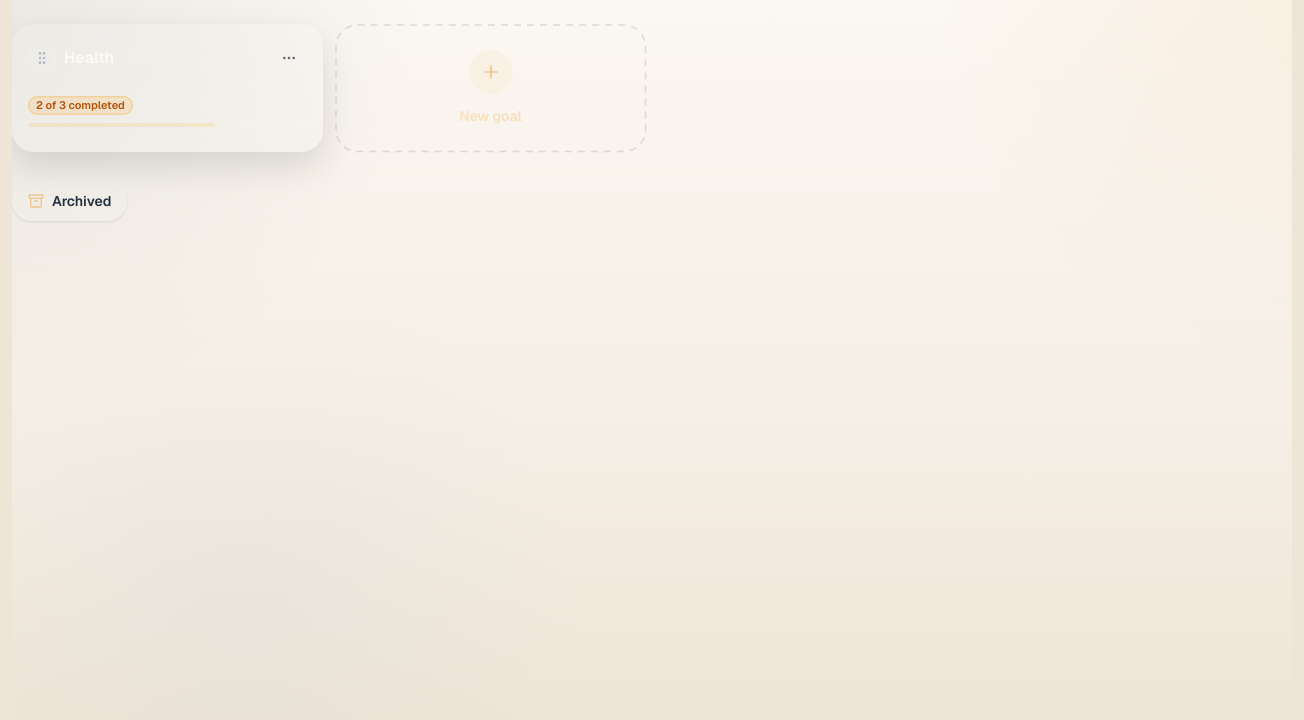
Test: GoalsSurface › renders the goal step surface without a border around the container
Click the button "Health 2 of 3 completed" at (89, 58), box [12,24,323,152]
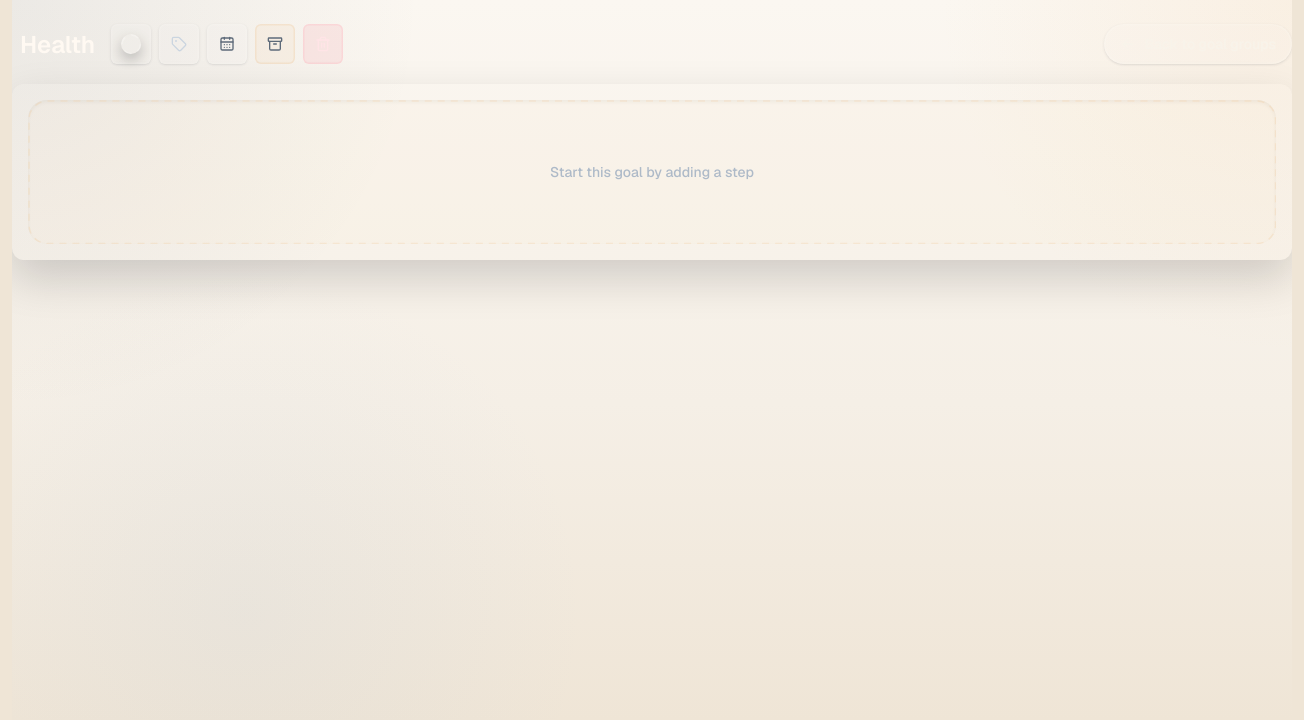
Expected: the element named "Health" is shown, [12,84,1292,260]
